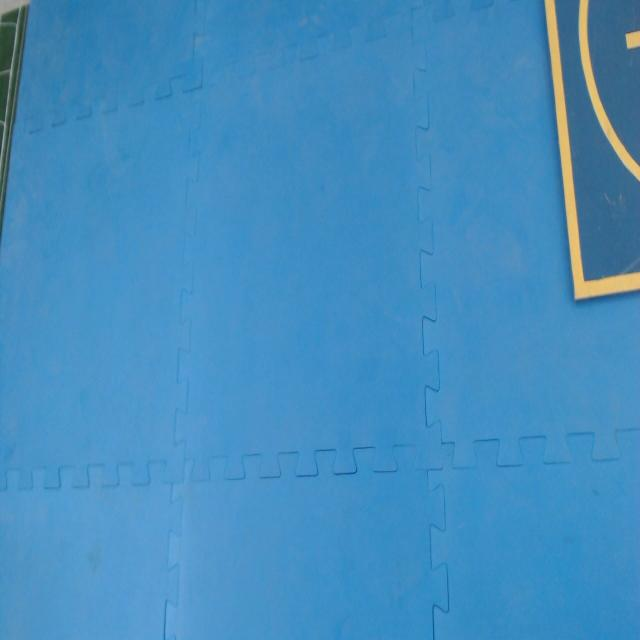base_pouso: (544, 0, 640, 302)
